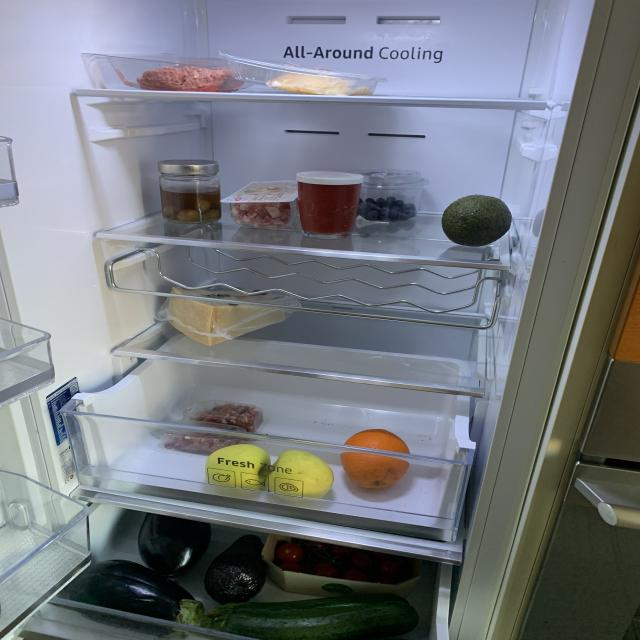apples: (266, 450, 332, 498), (206, 444, 272, 490)
aubergine: (68, 560, 210, 634), (137, 512, 209, 576)
avocado: (204, 536, 269, 604), (442, 194, 512, 248)
bacon: (164, 422, 245, 455), (193, 402, 264, 432), (230, 204, 291, 227)
blueberries: (361, 196, 418, 224)
cherry_tomato: (274, 538, 406, 582)
chicken_breast: (265, 68, 364, 94)
courgettes: (199, 597, 419, 640)
ground_beef: (136, 62, 230, 90)
olives: (161, 187, 222, 222)
orange: (342, 430, 408, 491)
parmesan_cheese: (168, 285, 286, 343)
tomato_sauce: (298, 182, 361, 232)
